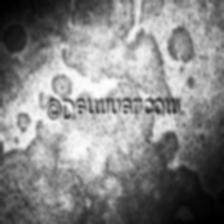Toxin: (60, 0, 136, 85), (0, 132, 4, 160)
